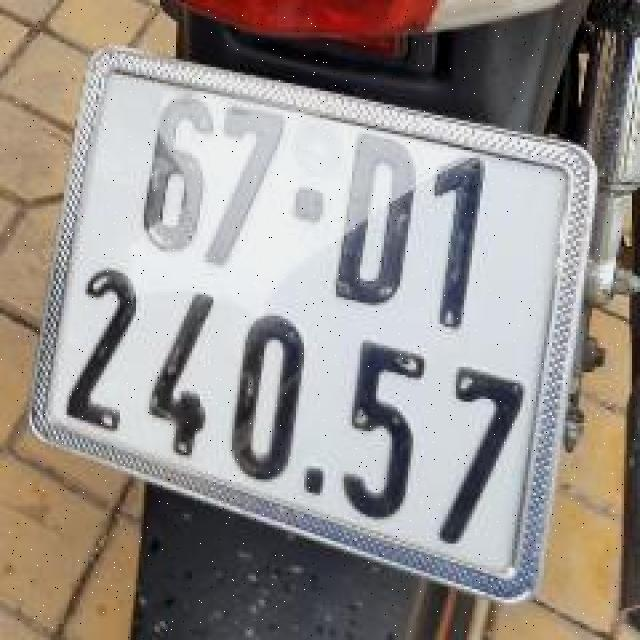0: (232, 302, 312, 492)
1: (427, 148, 496, 342)
2: (65, 260, 135, 436)
4: (142, 284, 222, 468)
5: (321, 334, 428, 526)
6: (128, 91, 208, 257)
7: (444, 346, 532, 562), (204, 99, 292, 273)
D: (328, 123, 416, 305)
